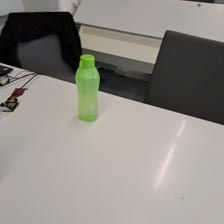bottle: (75, 51, 101, 121)
